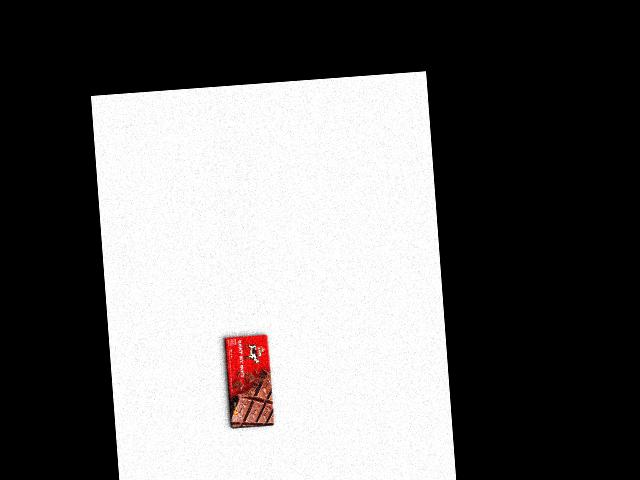chocolate: (220, 331, 276, 430)
